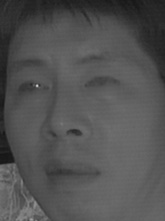eye: (79, 70, 124, 94), (15, 75, 50, 96)
mouth: (41, 152, 105, 191)
